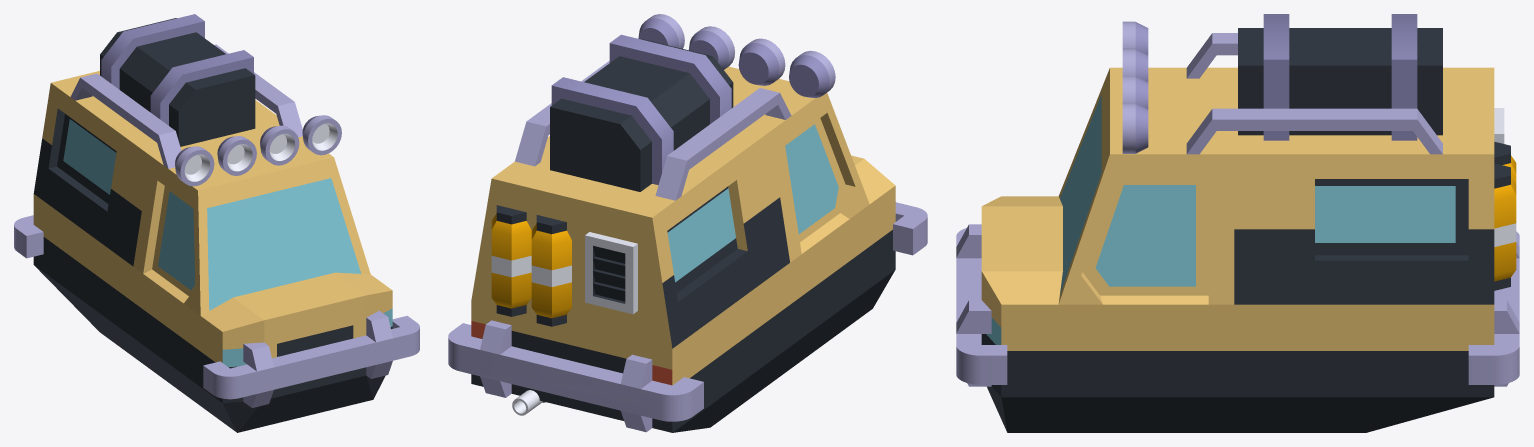
File: jeep.glb
3 renders of one model, left to right at view 1: azimuth 30°, elevation 25°; view 2: azimuth 150°, elevation 25°; view 3: azimuth 270°, elevation 25°, orthographic. The views are drawn at different scales.
Visible parts, largest first — view 1: mergedBlocks(Clone); view 2: mergedBlocks(Clone); view 3: mergedBlocks(Clone).
Boxes of the visible parts, x1,y1,x2,y2 form: mergedBlocks(Clone): (14,14,419,432); mergedBlocks(Clone): (448,14,927,432); mergedBlocks(Clone): (956,14,1519,432).
Size of the model in its own units: 1.2 by 1.55 by 2.2.
